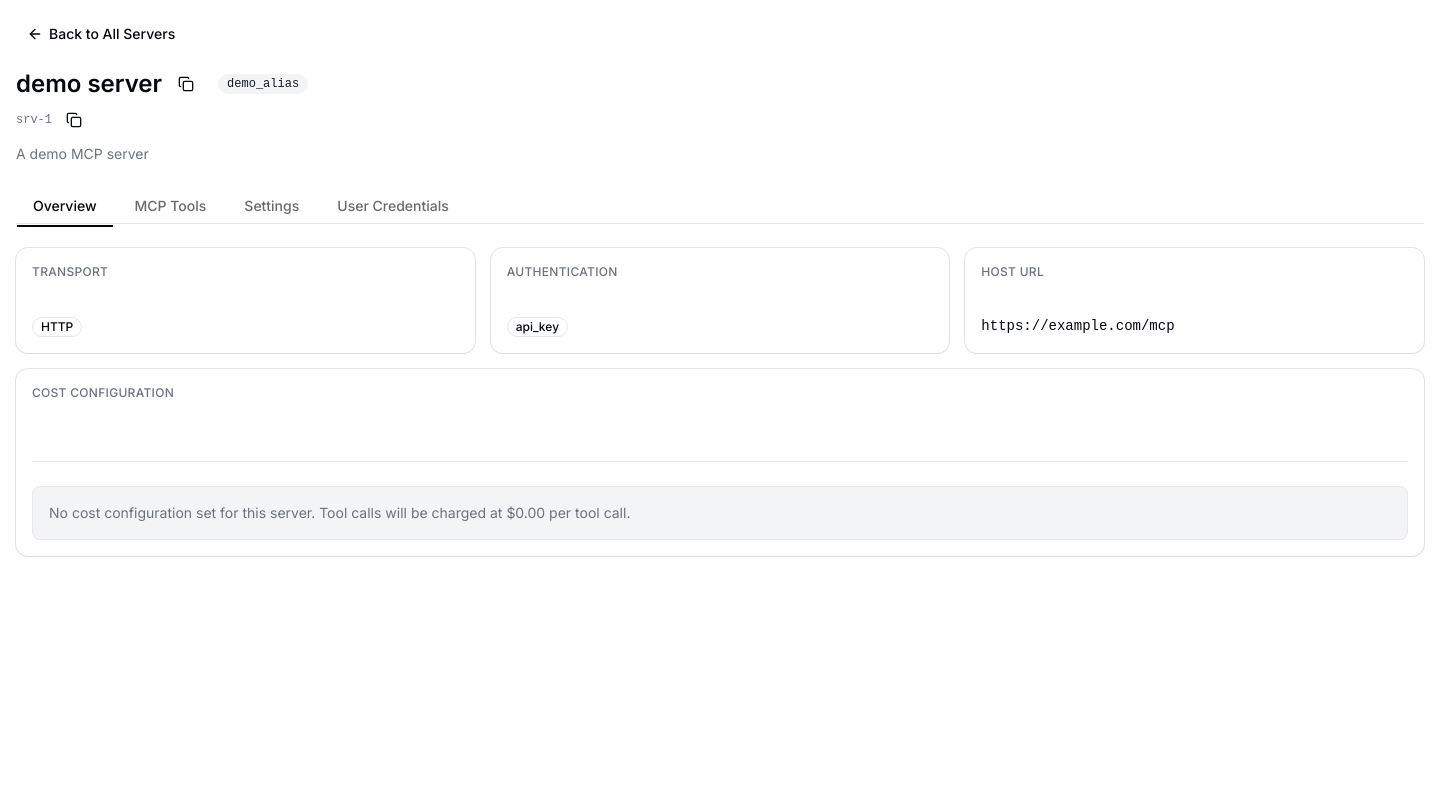
MCPServerView › lists the allowed tools, or says all tools are enabled
What coordinates should you click on to do the following:
click the tab "Settings"
I would click on:
 (272, 206)
Its box is [227,188,316,222].
(page scrolled)
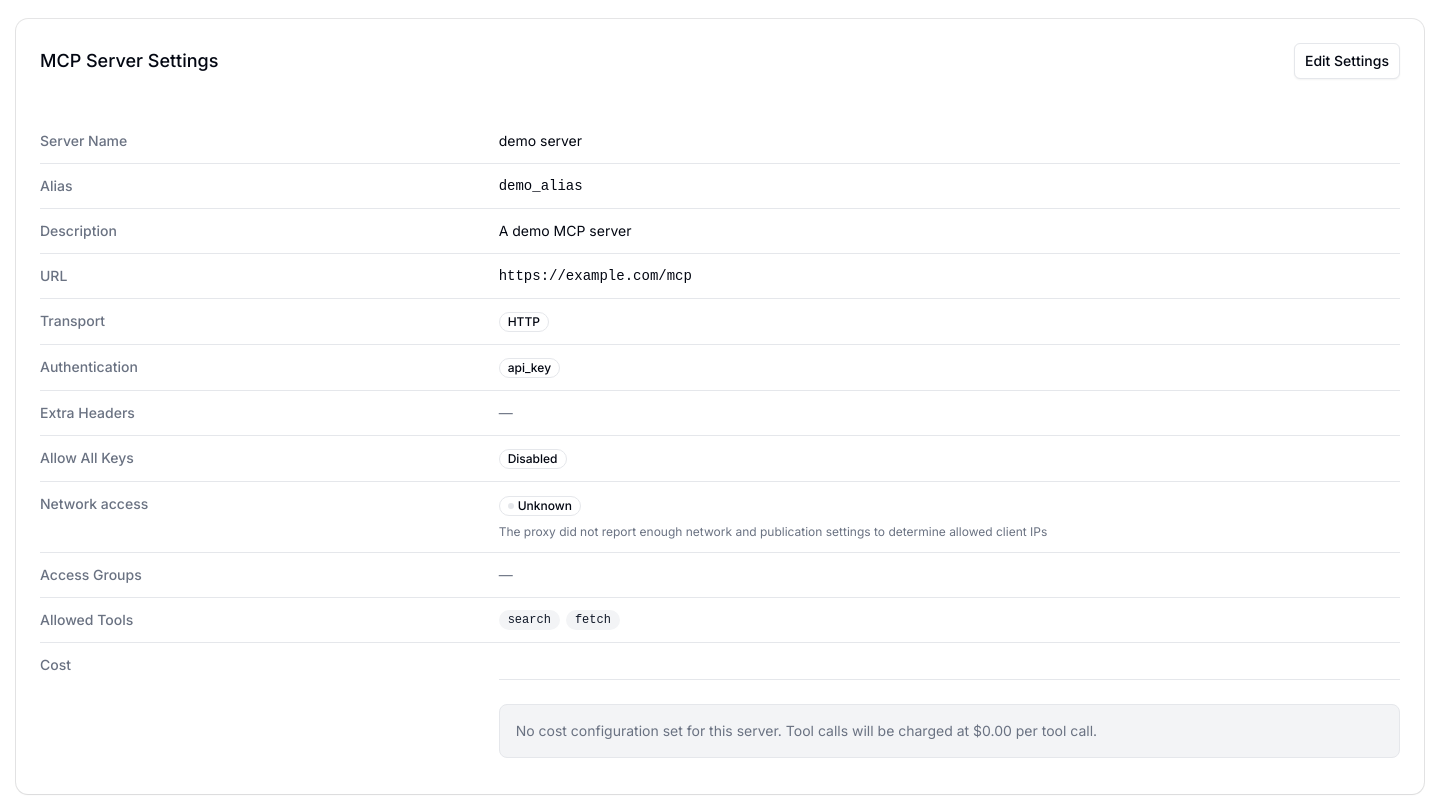
expect the text "search" is shown: met, box [499,610,560,630]
expect the icon "fetch" is shown: met, box [566,610,620,630]
